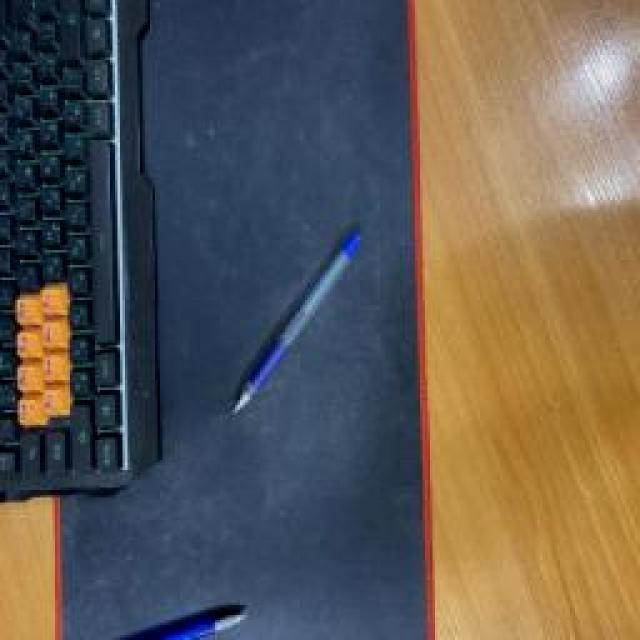pen: (232, 230, 366, 415)
